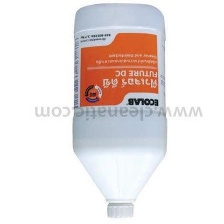cleaning_solution: (70, 0, 170, 222)
